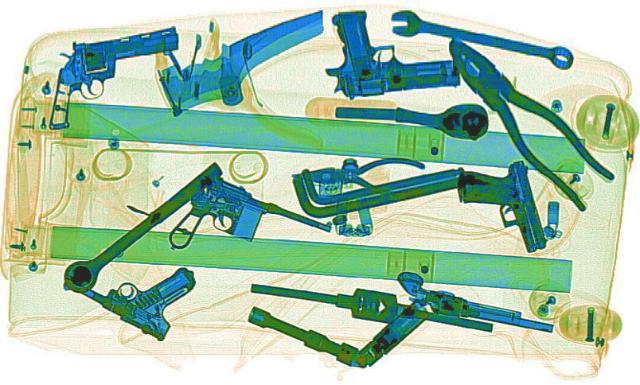Gun: (9, 24, 218, 129), (136, 175, 337, 282), (57, 242, 239, 341), (308, 2, 466, 98), (380, 269, 570, 333), (447, 158, 551, 255)
Pliers: (418, 29, 634, 210), (290, 155, 424, 192)
Wrench: (376, 6, 582, 71)
